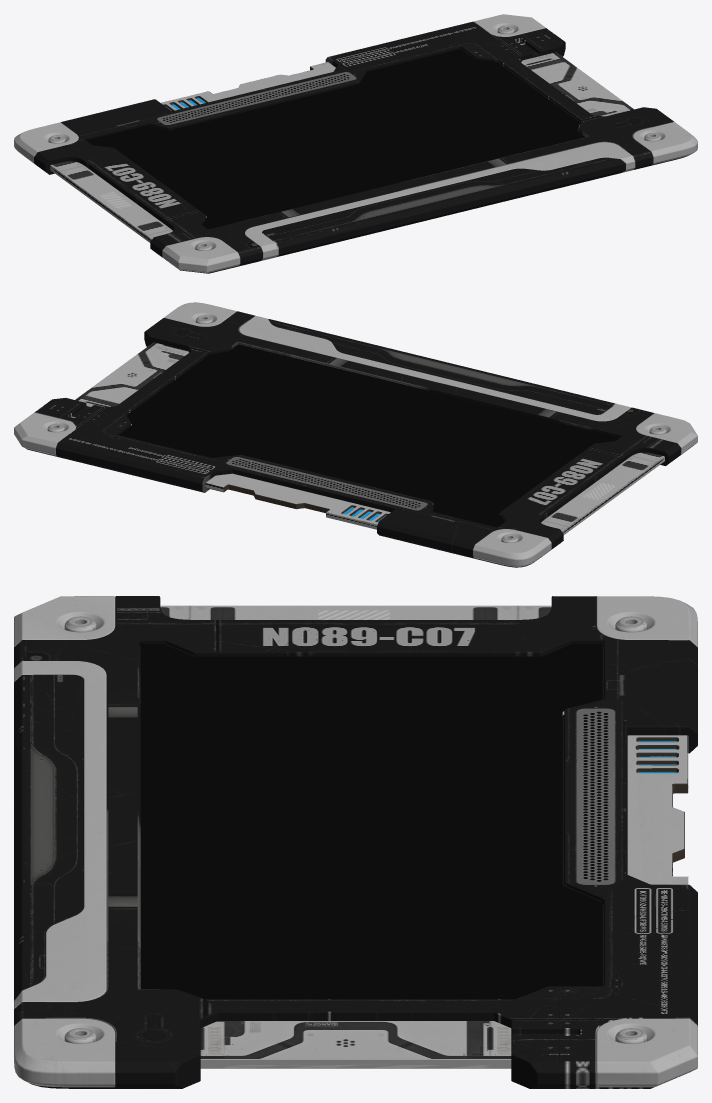
The model's file is tablet.glb.
3 views of the same model, one above another, from view 1: azimuth 30°, elevation 25°; view 2: azimuth 150°, elevation 25°; view 3: azimuth 270°, elevation 25° (orthographic). The views are drawn at different scales.
Parts seen in each view (by area): view 1: Cube.006; view 2: Cube.006; view 3: Cube.006.
Boxes of the visible parts, x1,y1,x2,y2 form: Cube.006: (14,14,697,273); Cube.006: (14,302,697,567); Cube.006: (14,596,697,1088).
Bounding box in the file's own units: 3.6 × 0.1011 × 2.2.
Materials: 5 (3 with a texture image).
